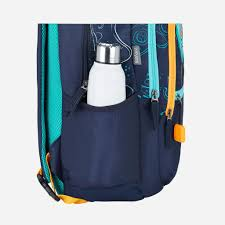backpack: (36, 22, 185, 204)
